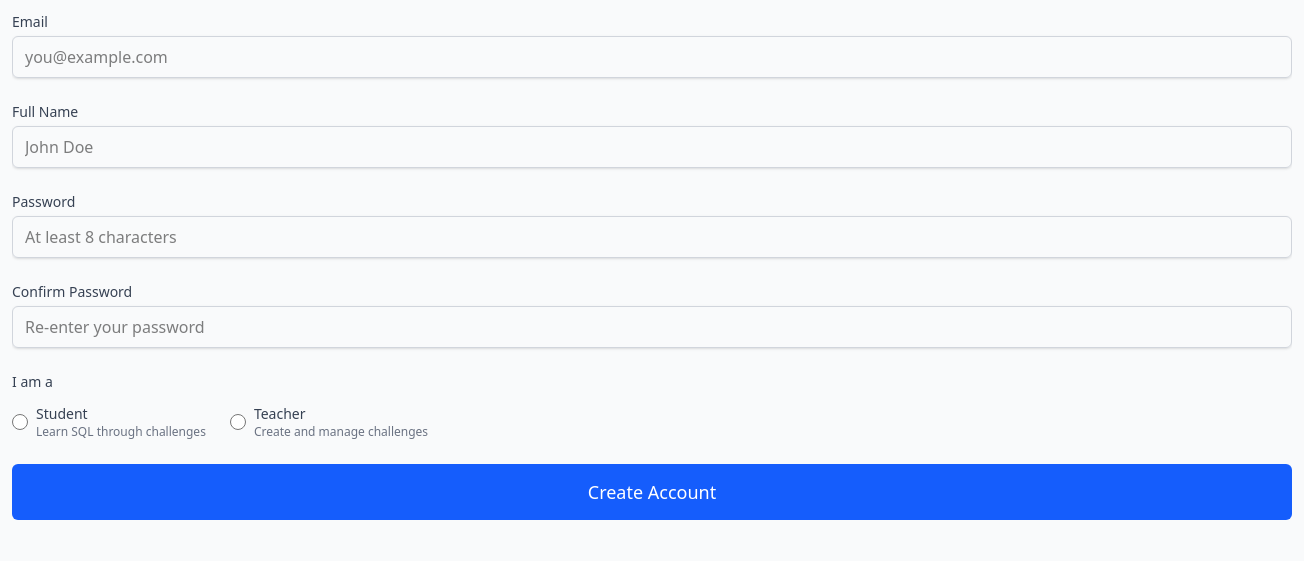
Test: RegisterForm › Form Validation › shows error for invalid email format
Type "invalid-email" into the field labelled "Email" at (652,57), box [12, 36, 1292, 78]
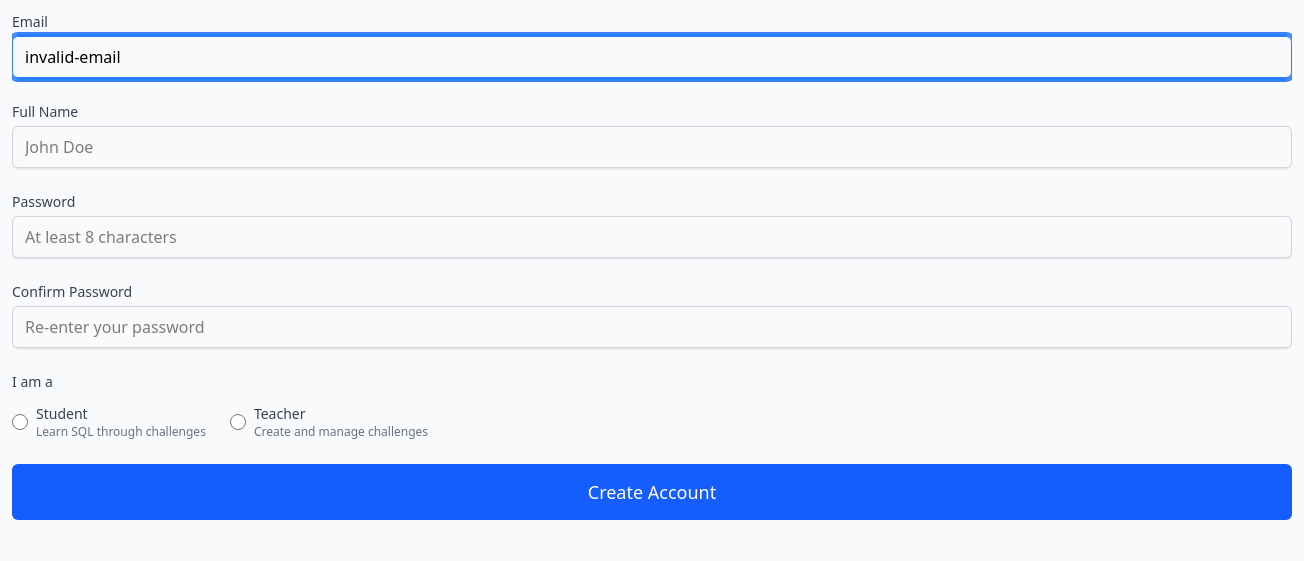
Press Tab
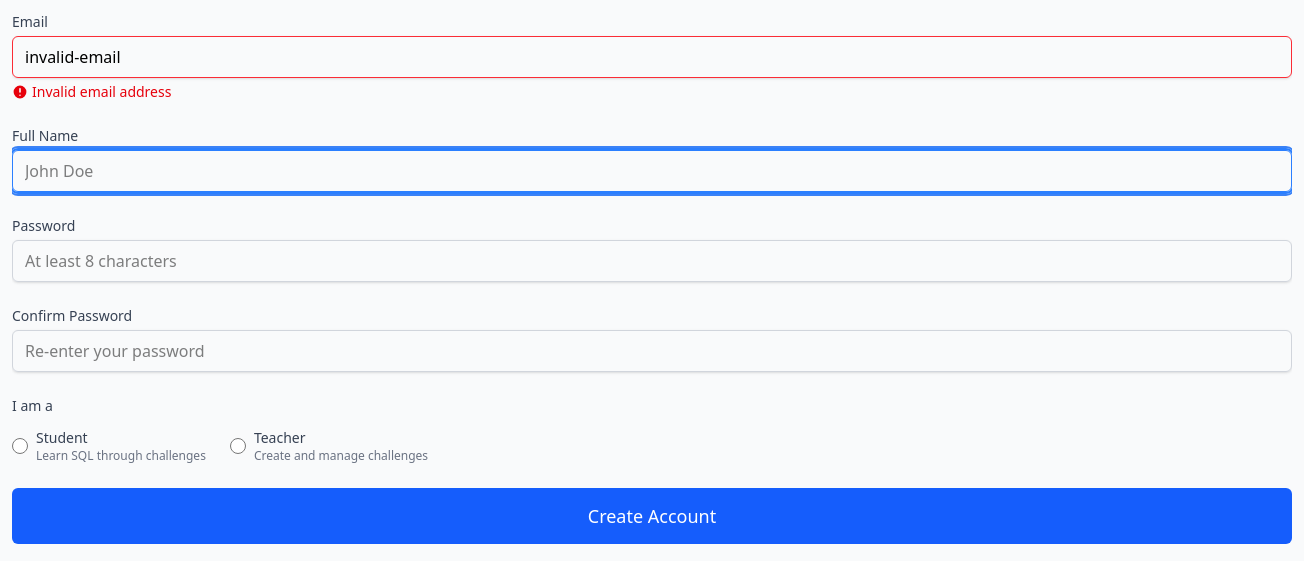
Expected: the text "Invalid email address" is shown, [32, 82, 171, 102]
